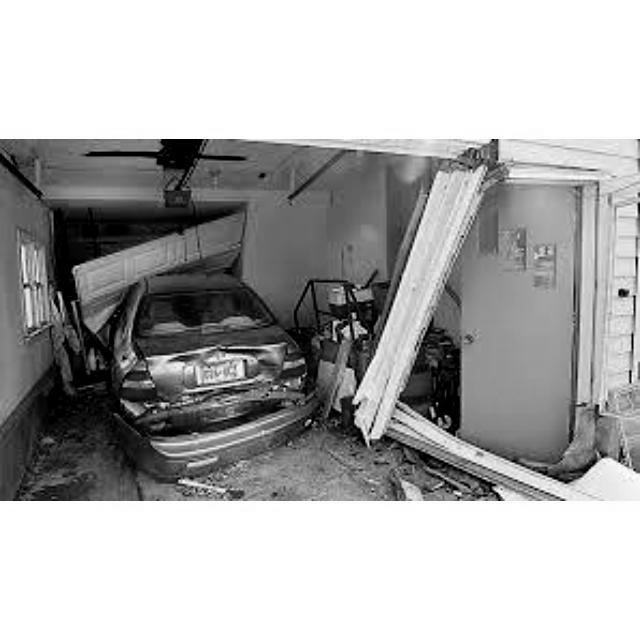boot-dent: (160, 340, 273, 395)
rear-bumper-dent: (136, 403, 258, 456)
